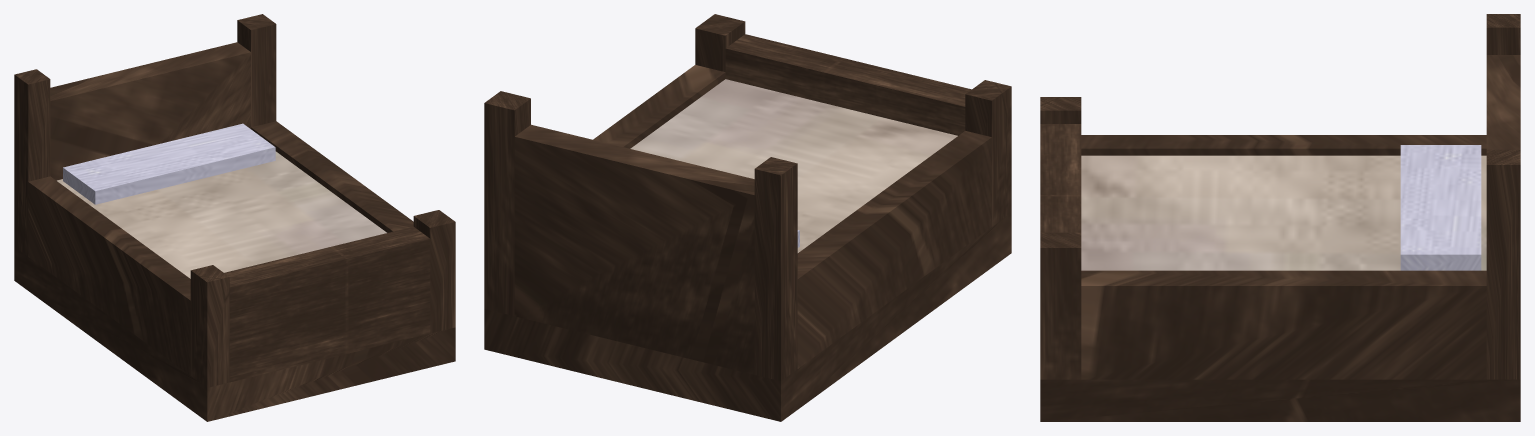
File: bed_servantroom.fbx
The picture shows the model from 3 angles, left to right: view 1: azimuth 30°, elevation 25°; view 2: azimuth 150°, elevation 25°; view 3: azimuth 270°, elevation 25°; orthographic projection. The views are drawn at different scales.
Parts seen in each view (by area): view 1: servant_bed, pillow; view 2: servant_bed; view 3: servant_bed, pillow.
Boxes of the visible parts, bbox=[...] form: servant_bed: bbox=[14, 14, 455, 421]; pillow: bbox=[63, 123, 275, 204]; servant_bed: bbox=[484, 14, 1011, 421]; servant_bed: bbox=[1040, 14, 1520, 421]; pillow: bbox=[1400, 145, 1481, 270].
Size of the model in its own units: 240 by 190 by 323.
